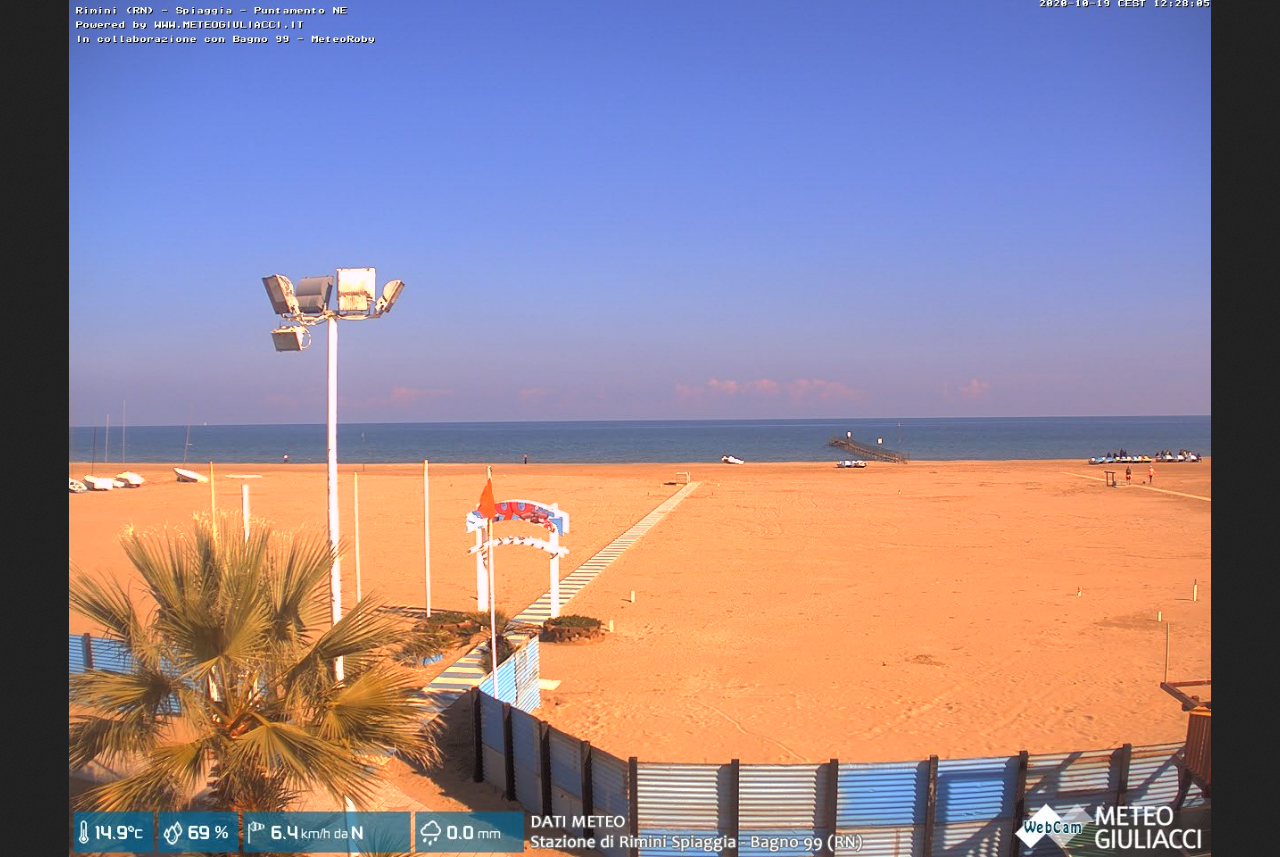maybe: (470, 469, 501, 523)
